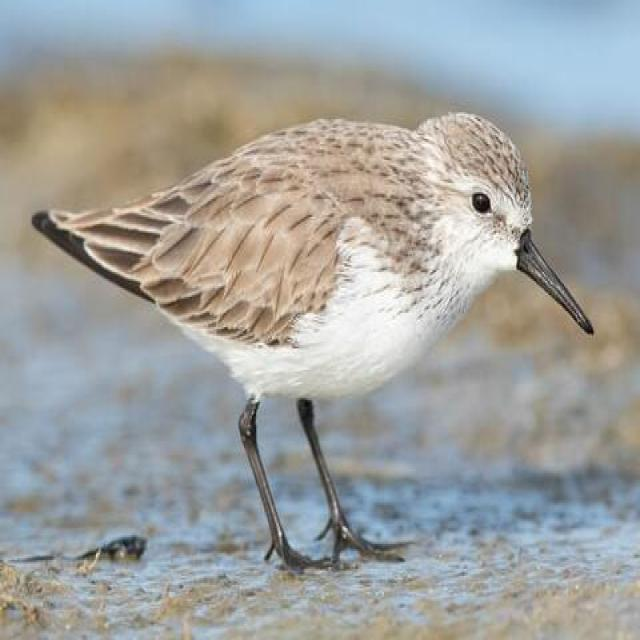Sandpiper: (69, 104, 594, 560)
